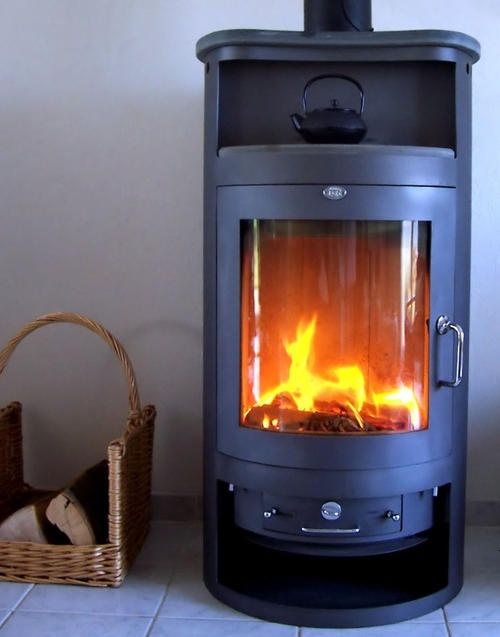fire: (245, 315, 427, 428)
